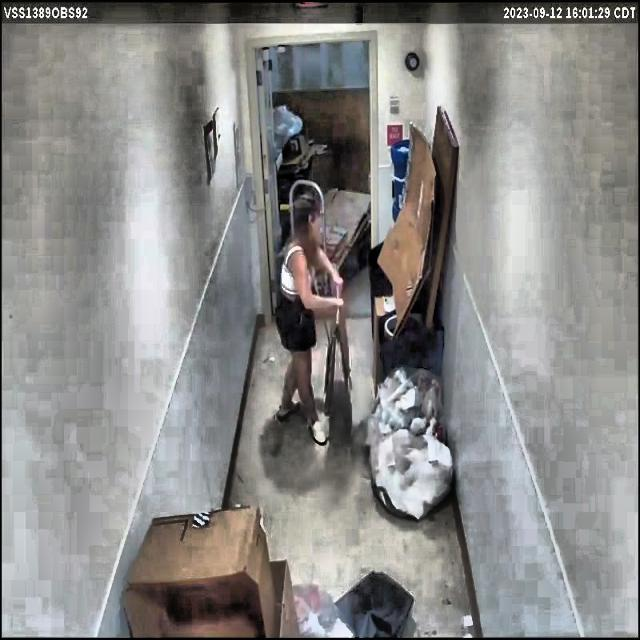not-gloved: (324, 288, 352, 321), (326, 263, 348, 287)
